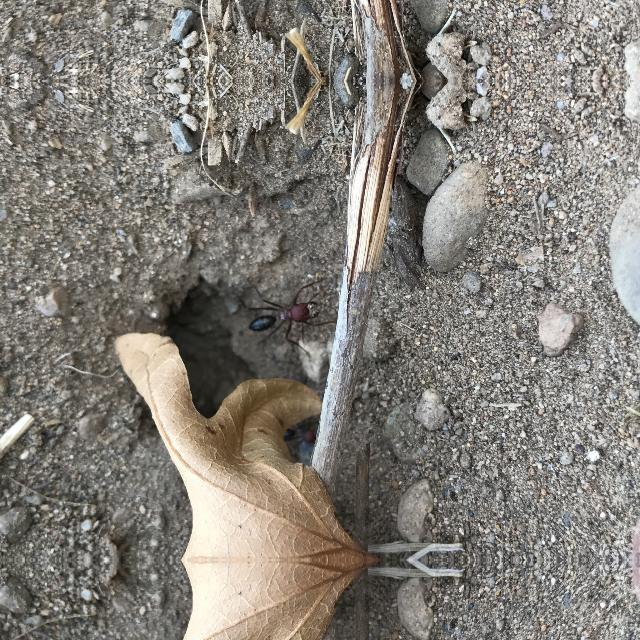Cataglyphis: (244, 290, 324, 338)
